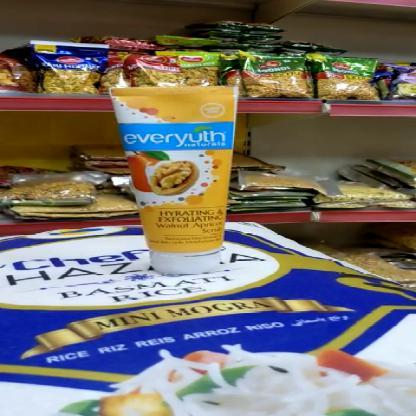EY HYD-EXF WALNT APR SCRUB AYR100G: (117, 89, 238, 276)
